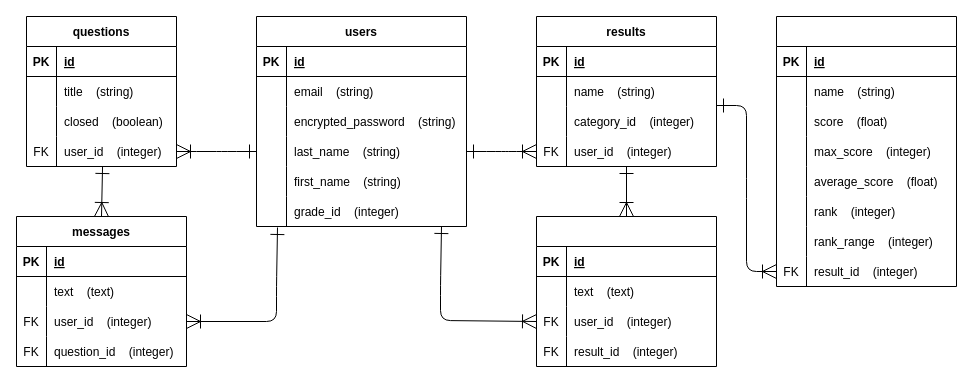
This 973x383 diagram has some shape labels left out. Here are the shapes that lost their labels. From the top down, the box of each, then its label:
(776, 16, 956, 286): subjects
(536, 216, 716, 366): comments
